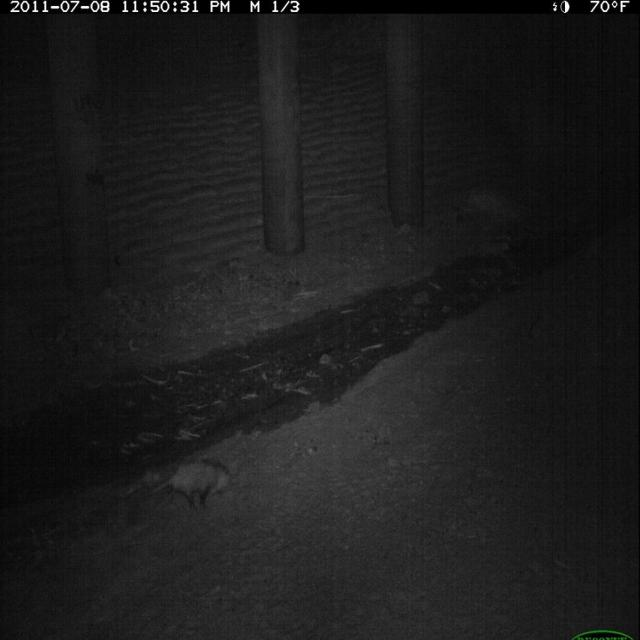opossum: (136, 452, 238, 519)
